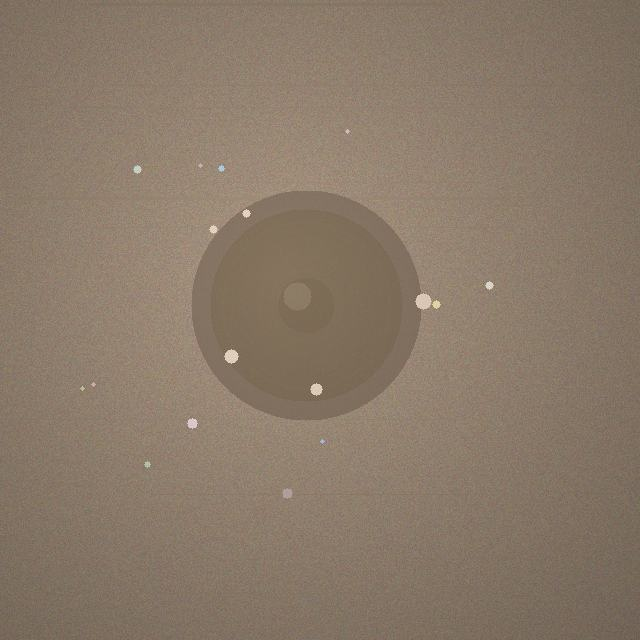overburn: (191, 190, 421, 420)
